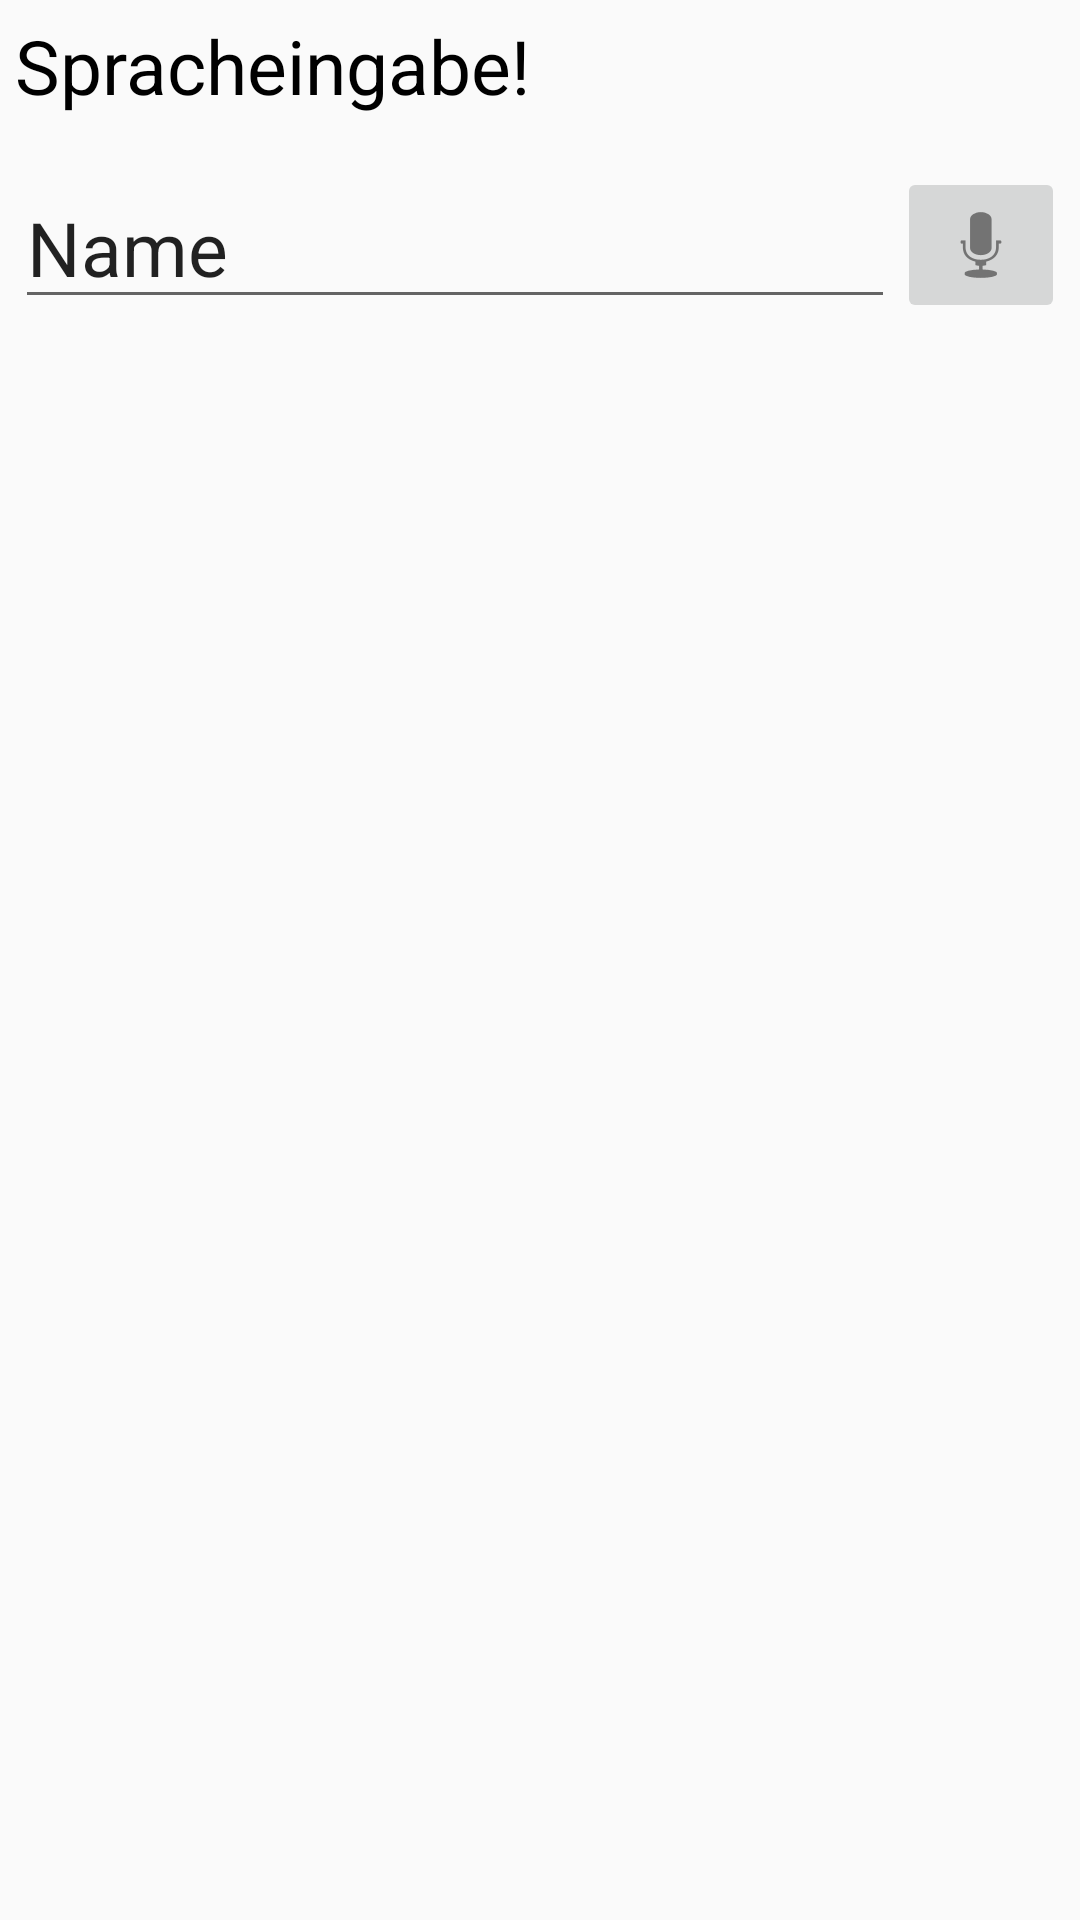

Locate icon controls on the screen. Image size 1080px x 1920px, boxes as (x1, y1, x2, y2).
tap to speak: (909, 185, 1053, 305)
